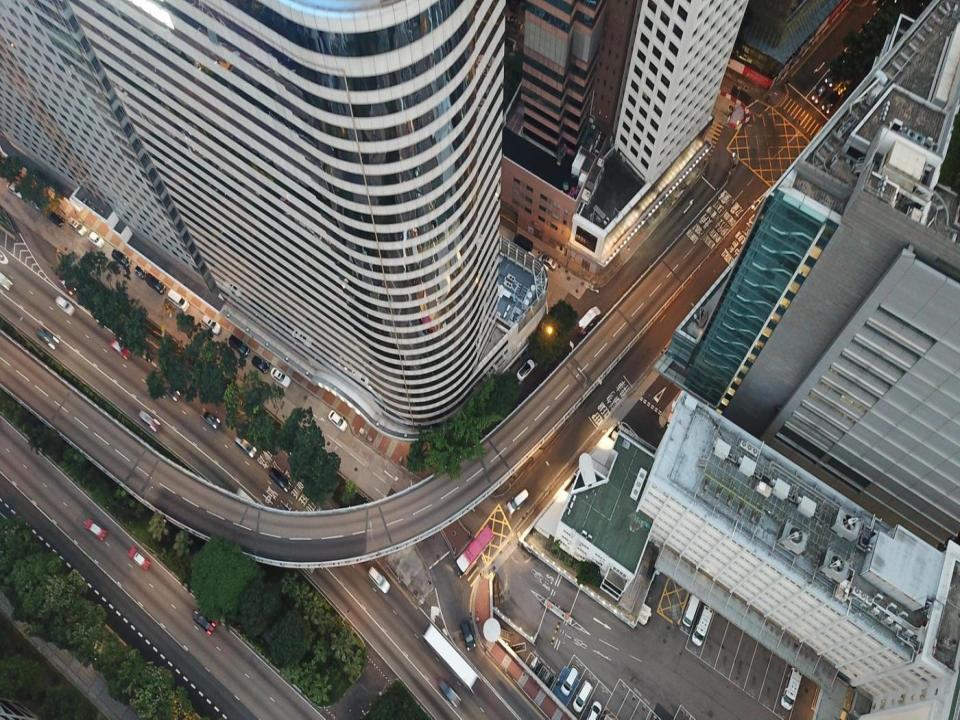bus: (422, 622, 482, 694), (577, 306, 601, 334)
car: (436, 680, 461, 707), (192, 609, 215, 635), (234, 432, 256, 458), (129, 546, 151, 572), (84, 518, 107, 541), (36, 327, 59, 349), (138, 410, 160, 432), (200, 409, 221, 430), (56, 273, 76, 294), (110, 338, 130, 359), (516, 358, 535, 380), (271, 368, 291, 388), (328, 411, 347, 432), (162, 380, 180, 401), (822, 92, 839, 114), (825, 63, 839, 87), (6, 181, 25, 198), (88, 231, 105, 249), (811, 84, 827, 103), (586, 700, 602, 719), (539, 254, 557, 270), (48, 211, 64, 228), (135, 265, 147, 277)
truck: (454, 524, 495, 578), (368, 565, 390, 593), (682, 595, 700, 628), (514, 234, 532, 252)
van: (780, 667, 802, 711), (692, 605, 713, 646), (573, 680, 592, 712), (560, 666, 580, 696), (268, 467, 292, 492), (508, 488, 530, 512), (228, 334, 250, 356), (146, 273, 167, 295), (168, 290, 189, 312), (460, 620, 475, 650), (55, 296, 75, 316), (68, 217, 87, 236), (111, 249, 131, 267), (252, 354, 270, 373), (202, 316, 220, 334), (0, 272, 12, 289)
